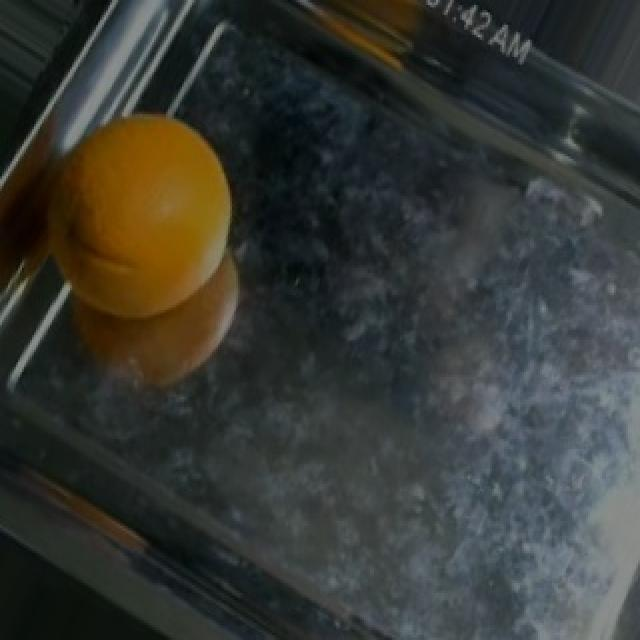Fruit: (8, 92, 260, 345)
